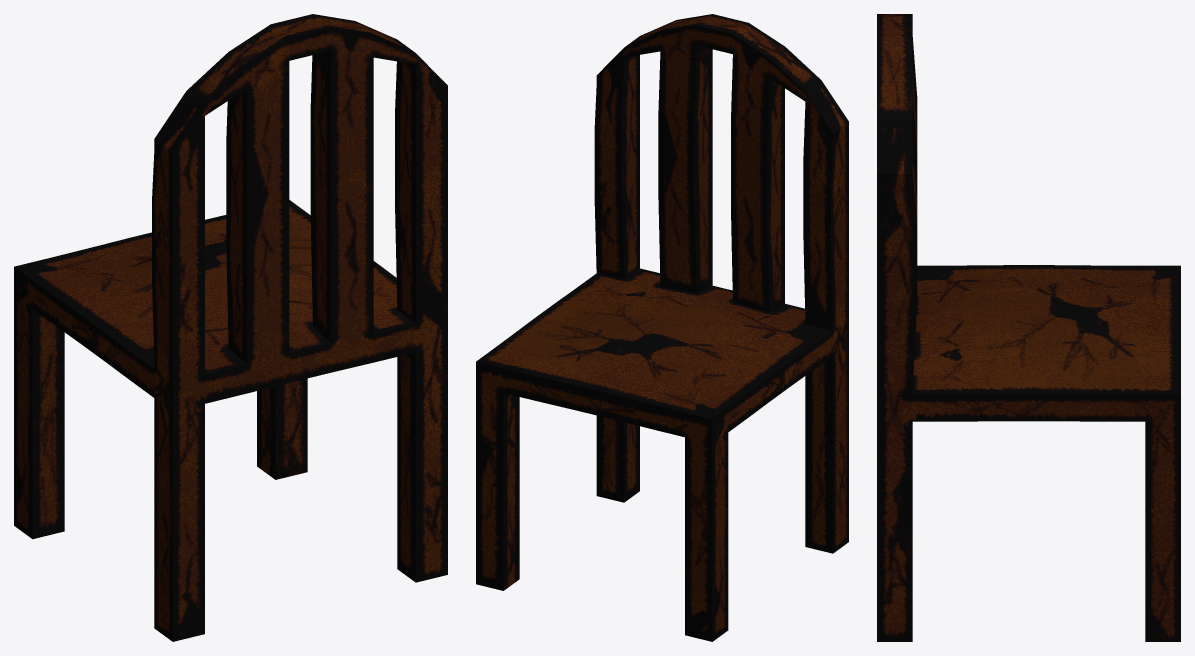
The model's file is Chair.fbx.
3 renders of one model, left to right at view 1: azimuth 30°, elevation 25°; view 2: azimuth 150°, elevation 25°; view 3: azimuth 270°, elevation 25°, orthographic. The views are drawn at different scales.
Visible parts, largest first — view 1: Chair; view 2: Chair; view 3: Chair.
Part boxes in pixels (bbox=[...]): Chair: bbox=[14, 14, 447, 641]; Chair: bbox=[476, 14, 848, 641]; Chair: bbox=[877, 14, 1180, 641].
Bounding box in the file's own units: 50 × 100 × 50.
1 material, 1 textured.
